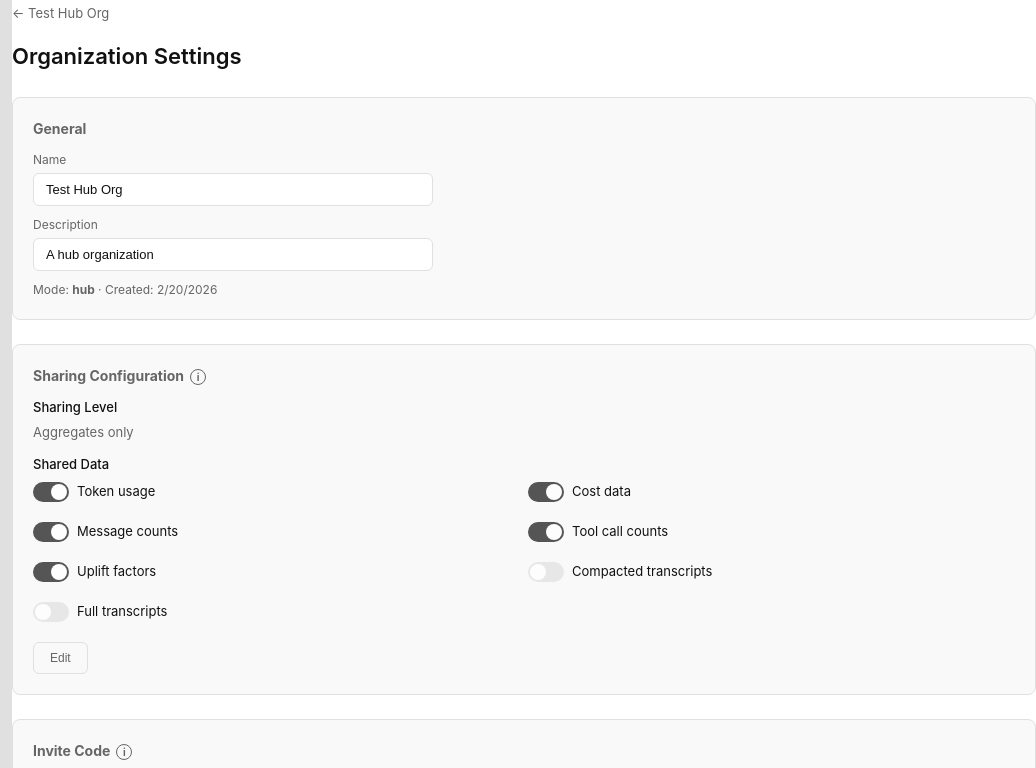
OrganizationSettings › Hub mode › cancels sharing config edit
The image size is (1036, 768).
Click the button "Edit": (60, 658) [33,642,88,674]
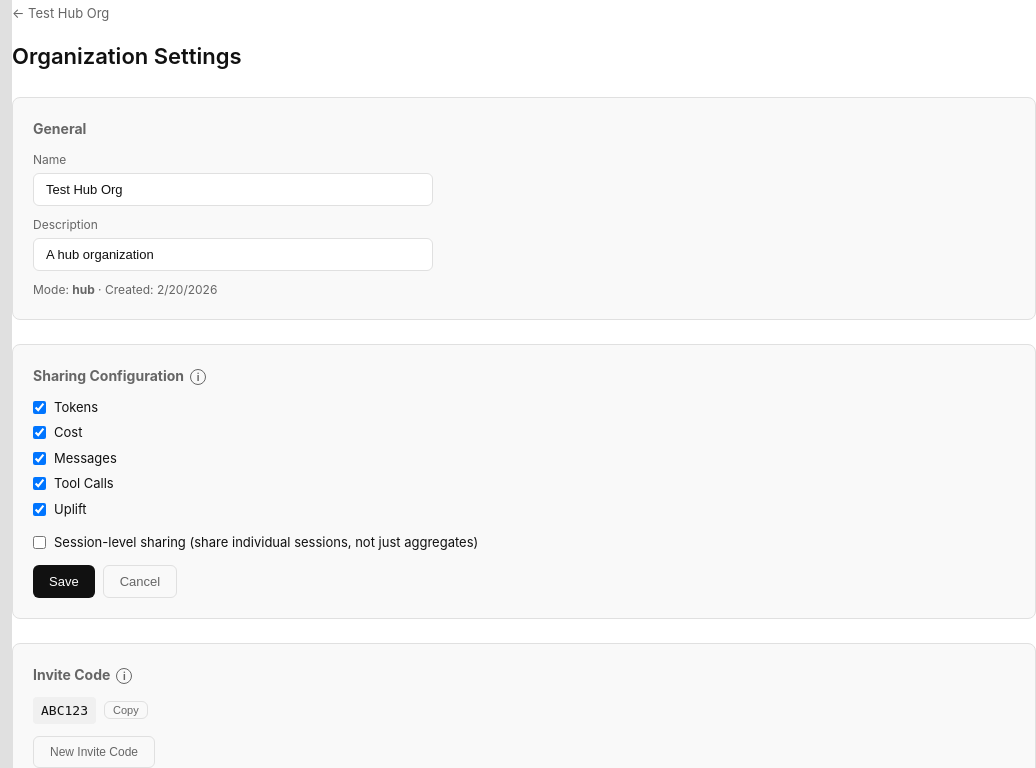
Expected: the button "Cancel" is shown
Click the button "Cancel": (140, 581) [103,564,177,598]
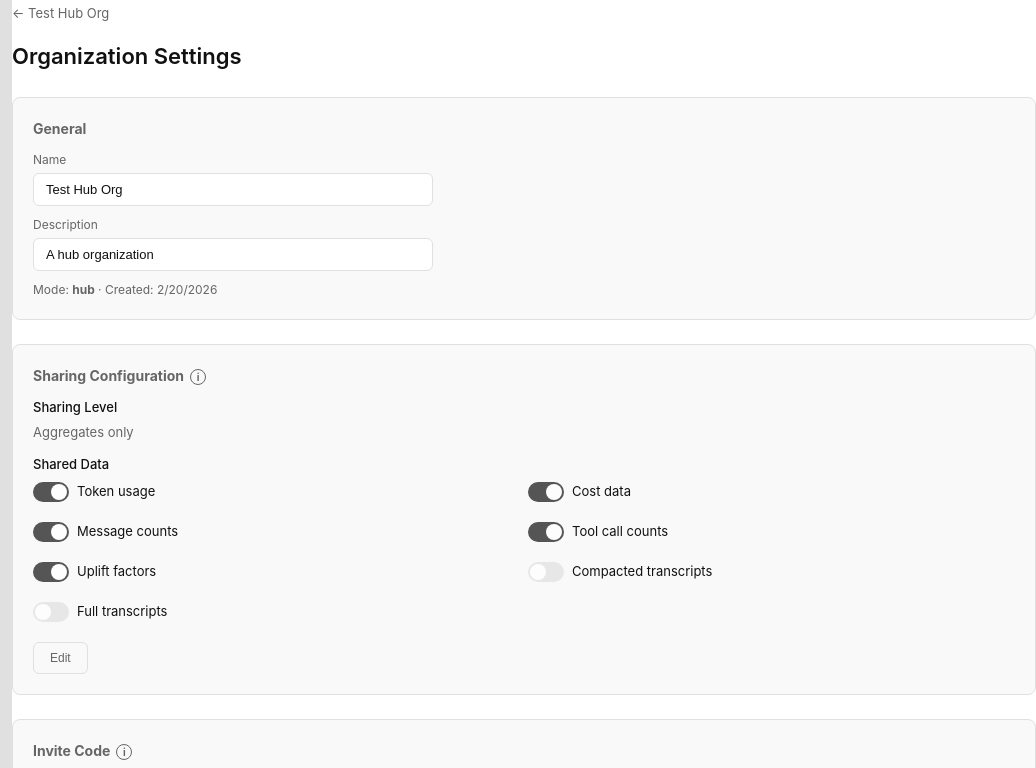
Expected: the button "Edit" is shown, [33,642,88,674]
Expected: the button "Cancel" is gone
